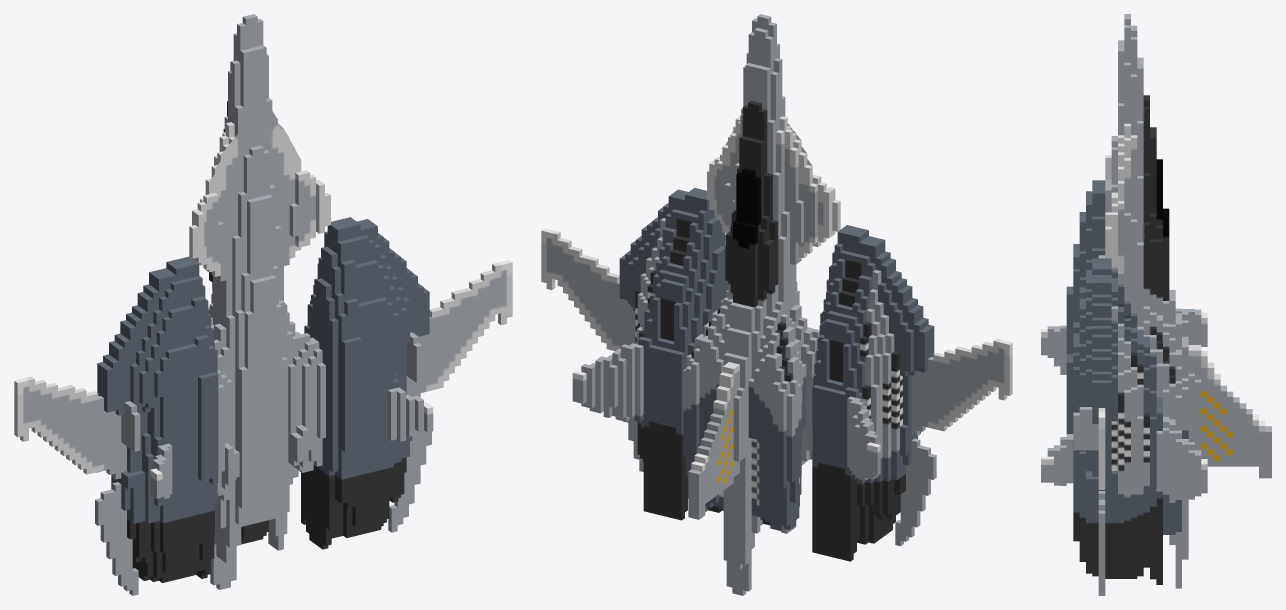
The model's file is Spaceships_2.fbx.
The picture shows the model from 3 angles, left to right: view 1: azimuth 30°, elevation 25°; view 2: azimuth 150°, elevation 25°; view 3: azimuth 270°, elevation 25°; orthographic projection. The views are drawn at different scales.
Visible parts, largest first — view 1: Spaceships_2; view 2: Spaceships_2; view 3: Spaceships_2.
Boxes of the visible parts, x1,y1,x2,y2 form: Spaceships_2: (14, 14, 512, 595); Spaceships_2: (541, 14, 1012, 595); Spaceships_2: (1041, 14, 1271, 595).
Size of the model in its own units: 860 by 980 by 360.
